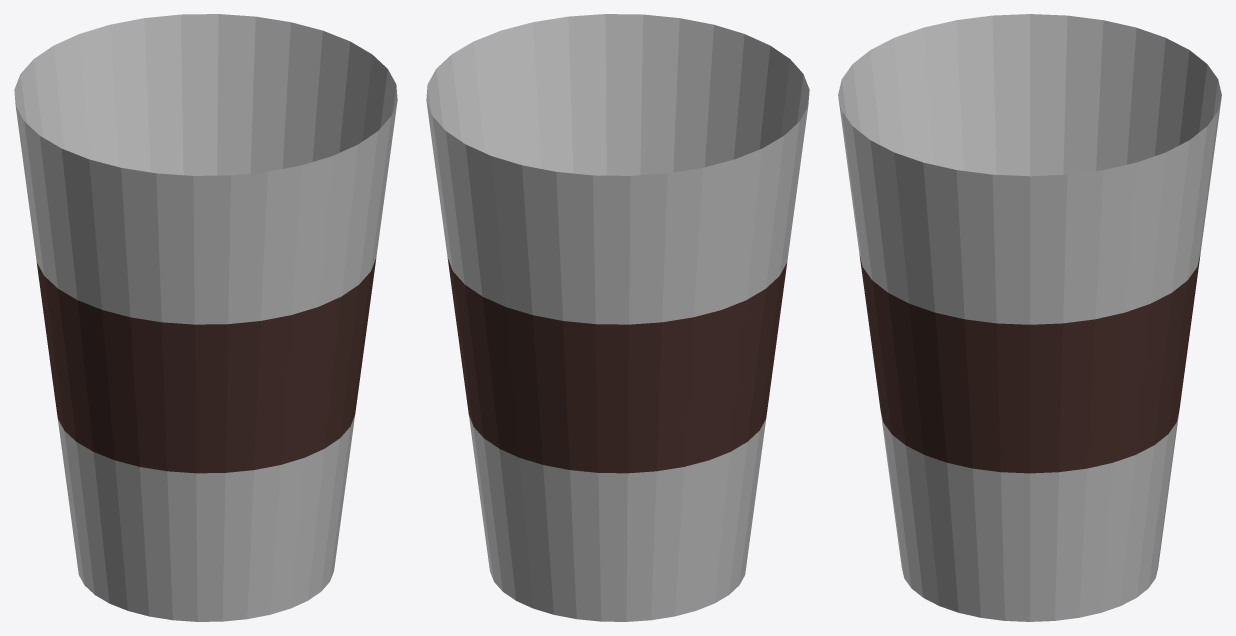
Rendered from coffee_cup.glb.
The picture shows the model from 3 angles, left to right: view 1: azimuth 30°, elevation 25°; view 2: azimuth 150°, elevation 25°; view 3: azimuth 270°, elevation 25°; orthographic projection.
Parts seen in each view (by area): view 1: coffee_cup; view 2: coffee_cup; view 3: coffee_cup.
Part boxes in pixels (left/top/right/bottom): coffee_cup: left=14, top=14, right=397, bottom=621; coffee_cup: left=426, top=14, right=809, bottom=621; coffee_cup: left=838, top=14, right=1221, bottom=621.
Bounding box in the file's own units: 0.1025 × 0.1393 × 0.1025.
